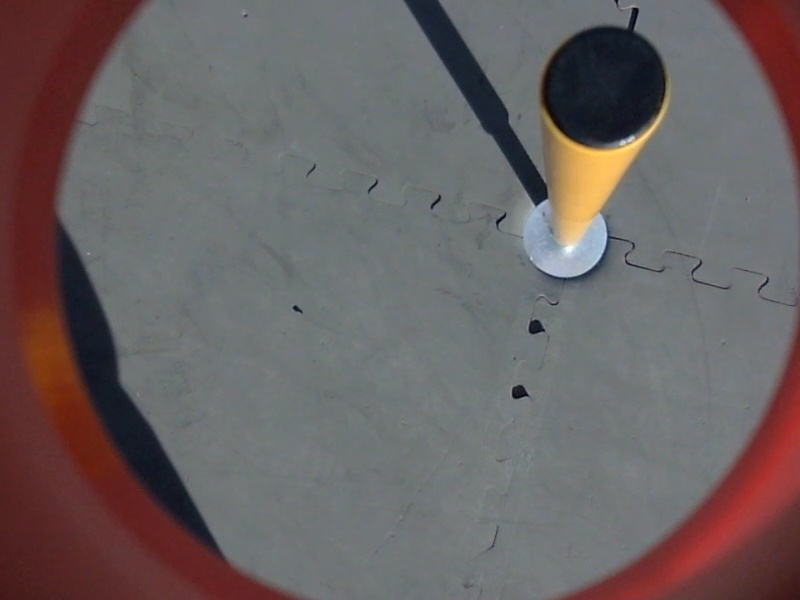tip: (535, 23, 678, 163)
